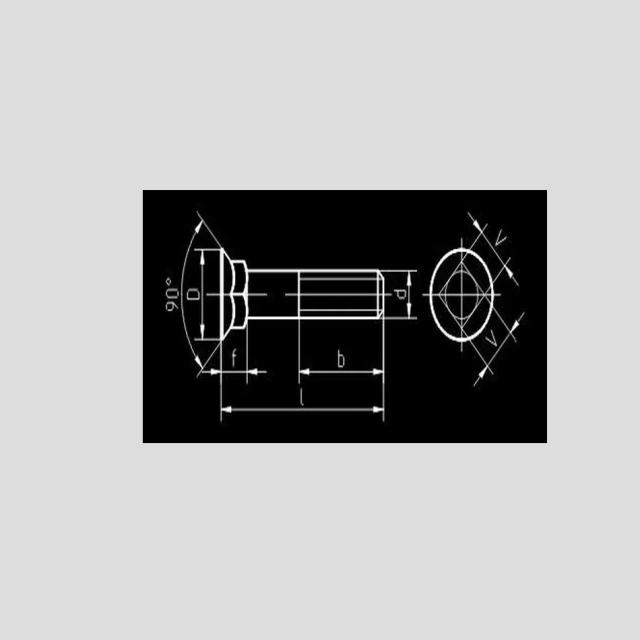marking_line: (216, 378, 387, 422), (179, 214, 219, 379), (296, 322, 388, 383), (472, 310, 526, 388), (476, 211, 531, 283), (204, 341, 266, 382), (192, 249, 219, 340), (385, 269, 419, 321)
numeric: (185, 288, 200, 302), (228, 346, 238, 367), (165, 288, 180, 300), (336, 349, 346, 367), (393, 288, 407, 300), (298, 384, 305, 407), (165, 301, 179, 312)
special_symbol: (165, 277, 172, 286)
